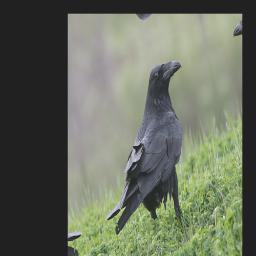Crow: (84, 52, 209, 256)
